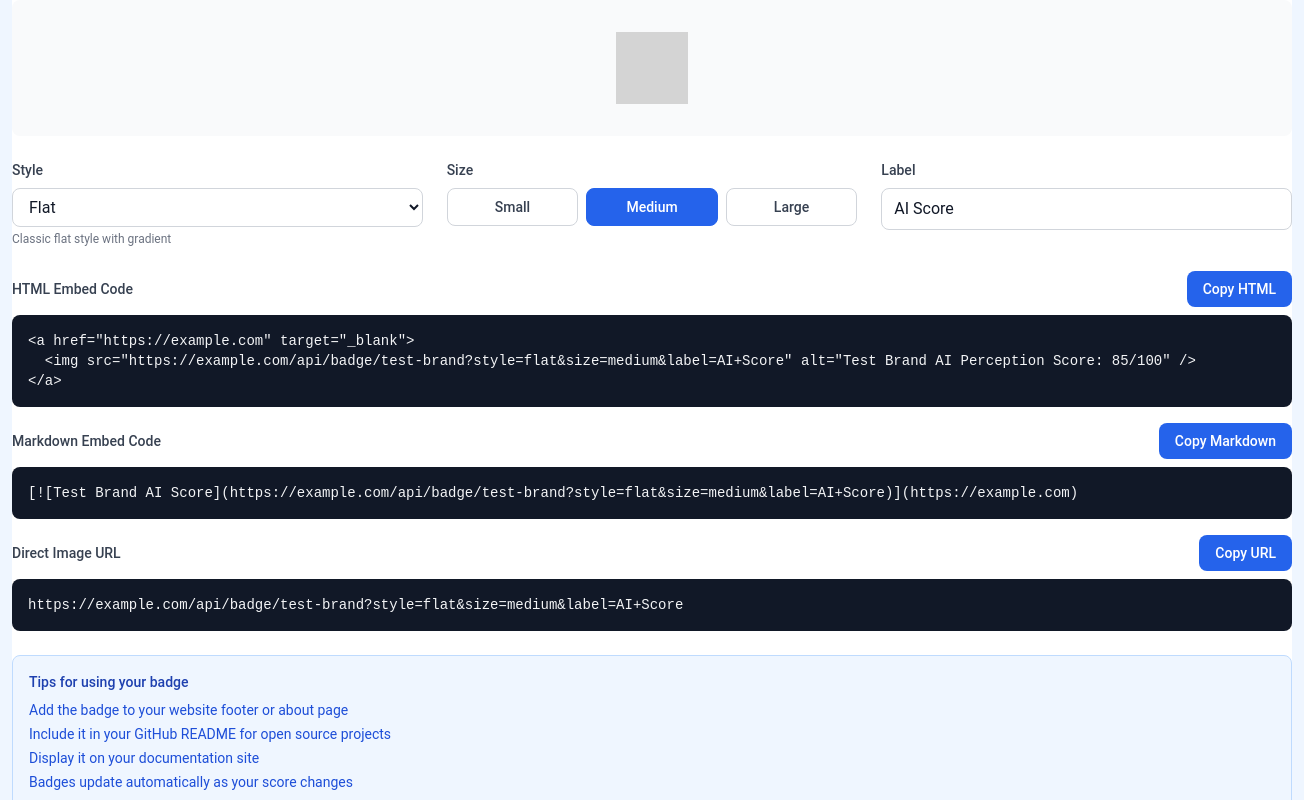
Scenario: BadgeGenerator › Copy Buttons › should show "Copied!" after clicking copy
Click the button "Copy HTML". click: (1239, 289)
box: [1187,271,1292,307]
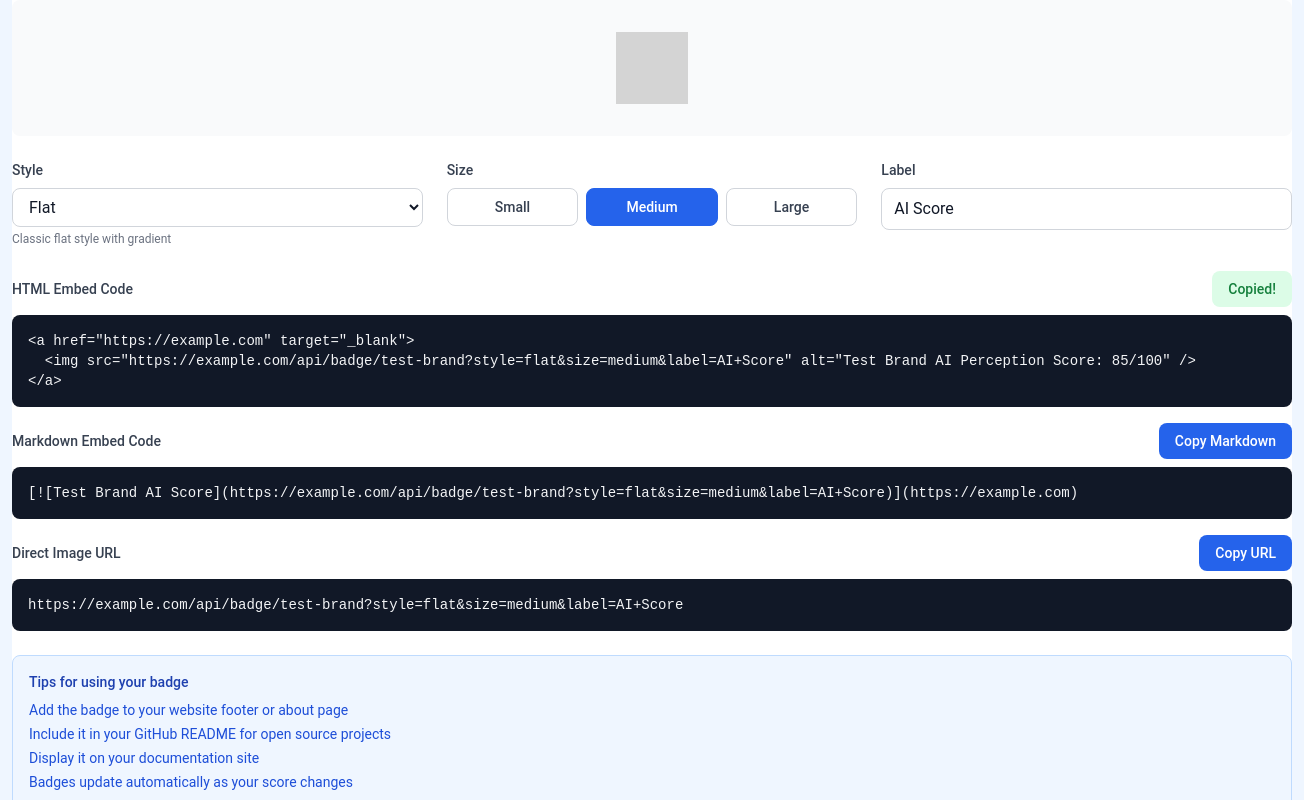
Now the button "Copied!" is shown, box [1212,271,1292,307]
